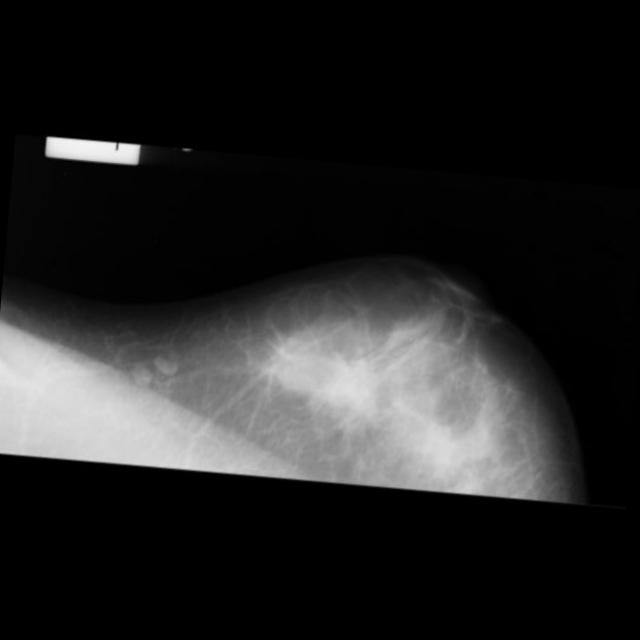ASYM: (322, 358, 372, 408)
